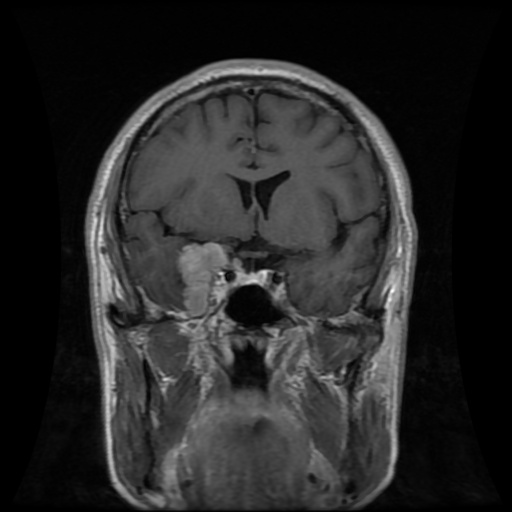meningioma: (177, 242, 229, 314)
